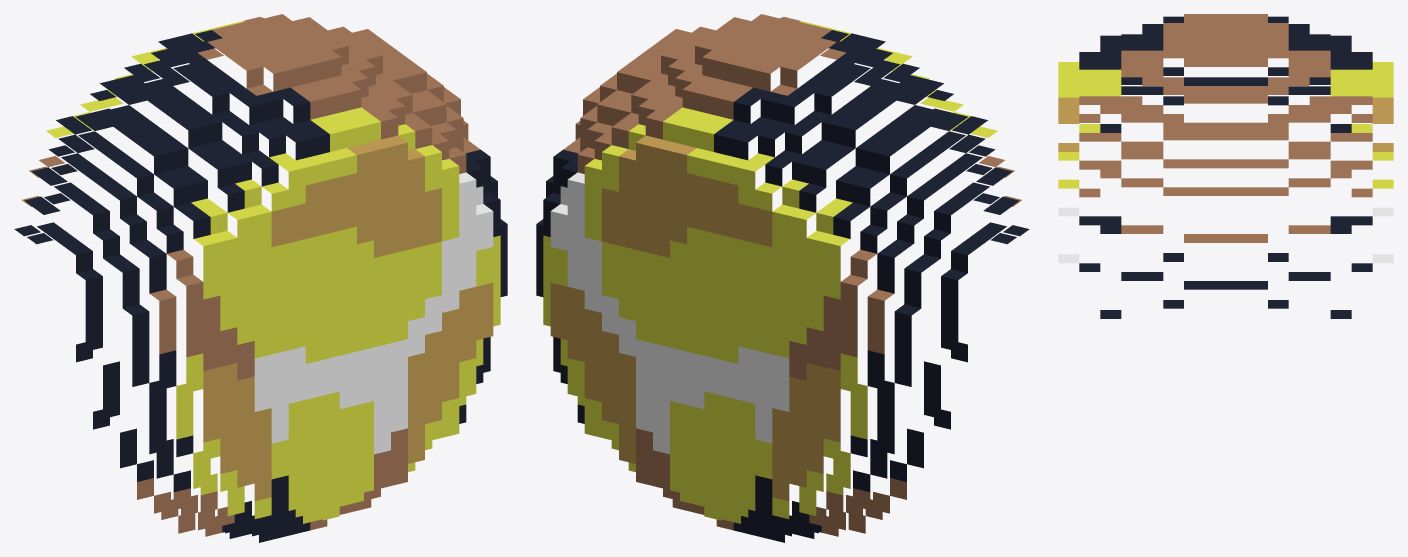
Rendered from ouro.glb.
3 renders of one model, left to right at view 1: azimuth 30°, elevation 25°; view 2: azimuth 150°, elevation 25°; view 3: azimuth 270°, elevation 25°, orthographic. The views are drawn at different scales.
Visible parts, largest first — view 1: q0; view 2: q0; view 3: q0.
Boxes of the visible parts, x1,y1,x2,y2 form: q0: (14, 14, 507, 542); q0: (536, 14, 1029, 542); q0: (1058, 14, 1393, 318).
Bounding box in the file's own units: 24 × 26 × 16.
1 material, 1 textured.
